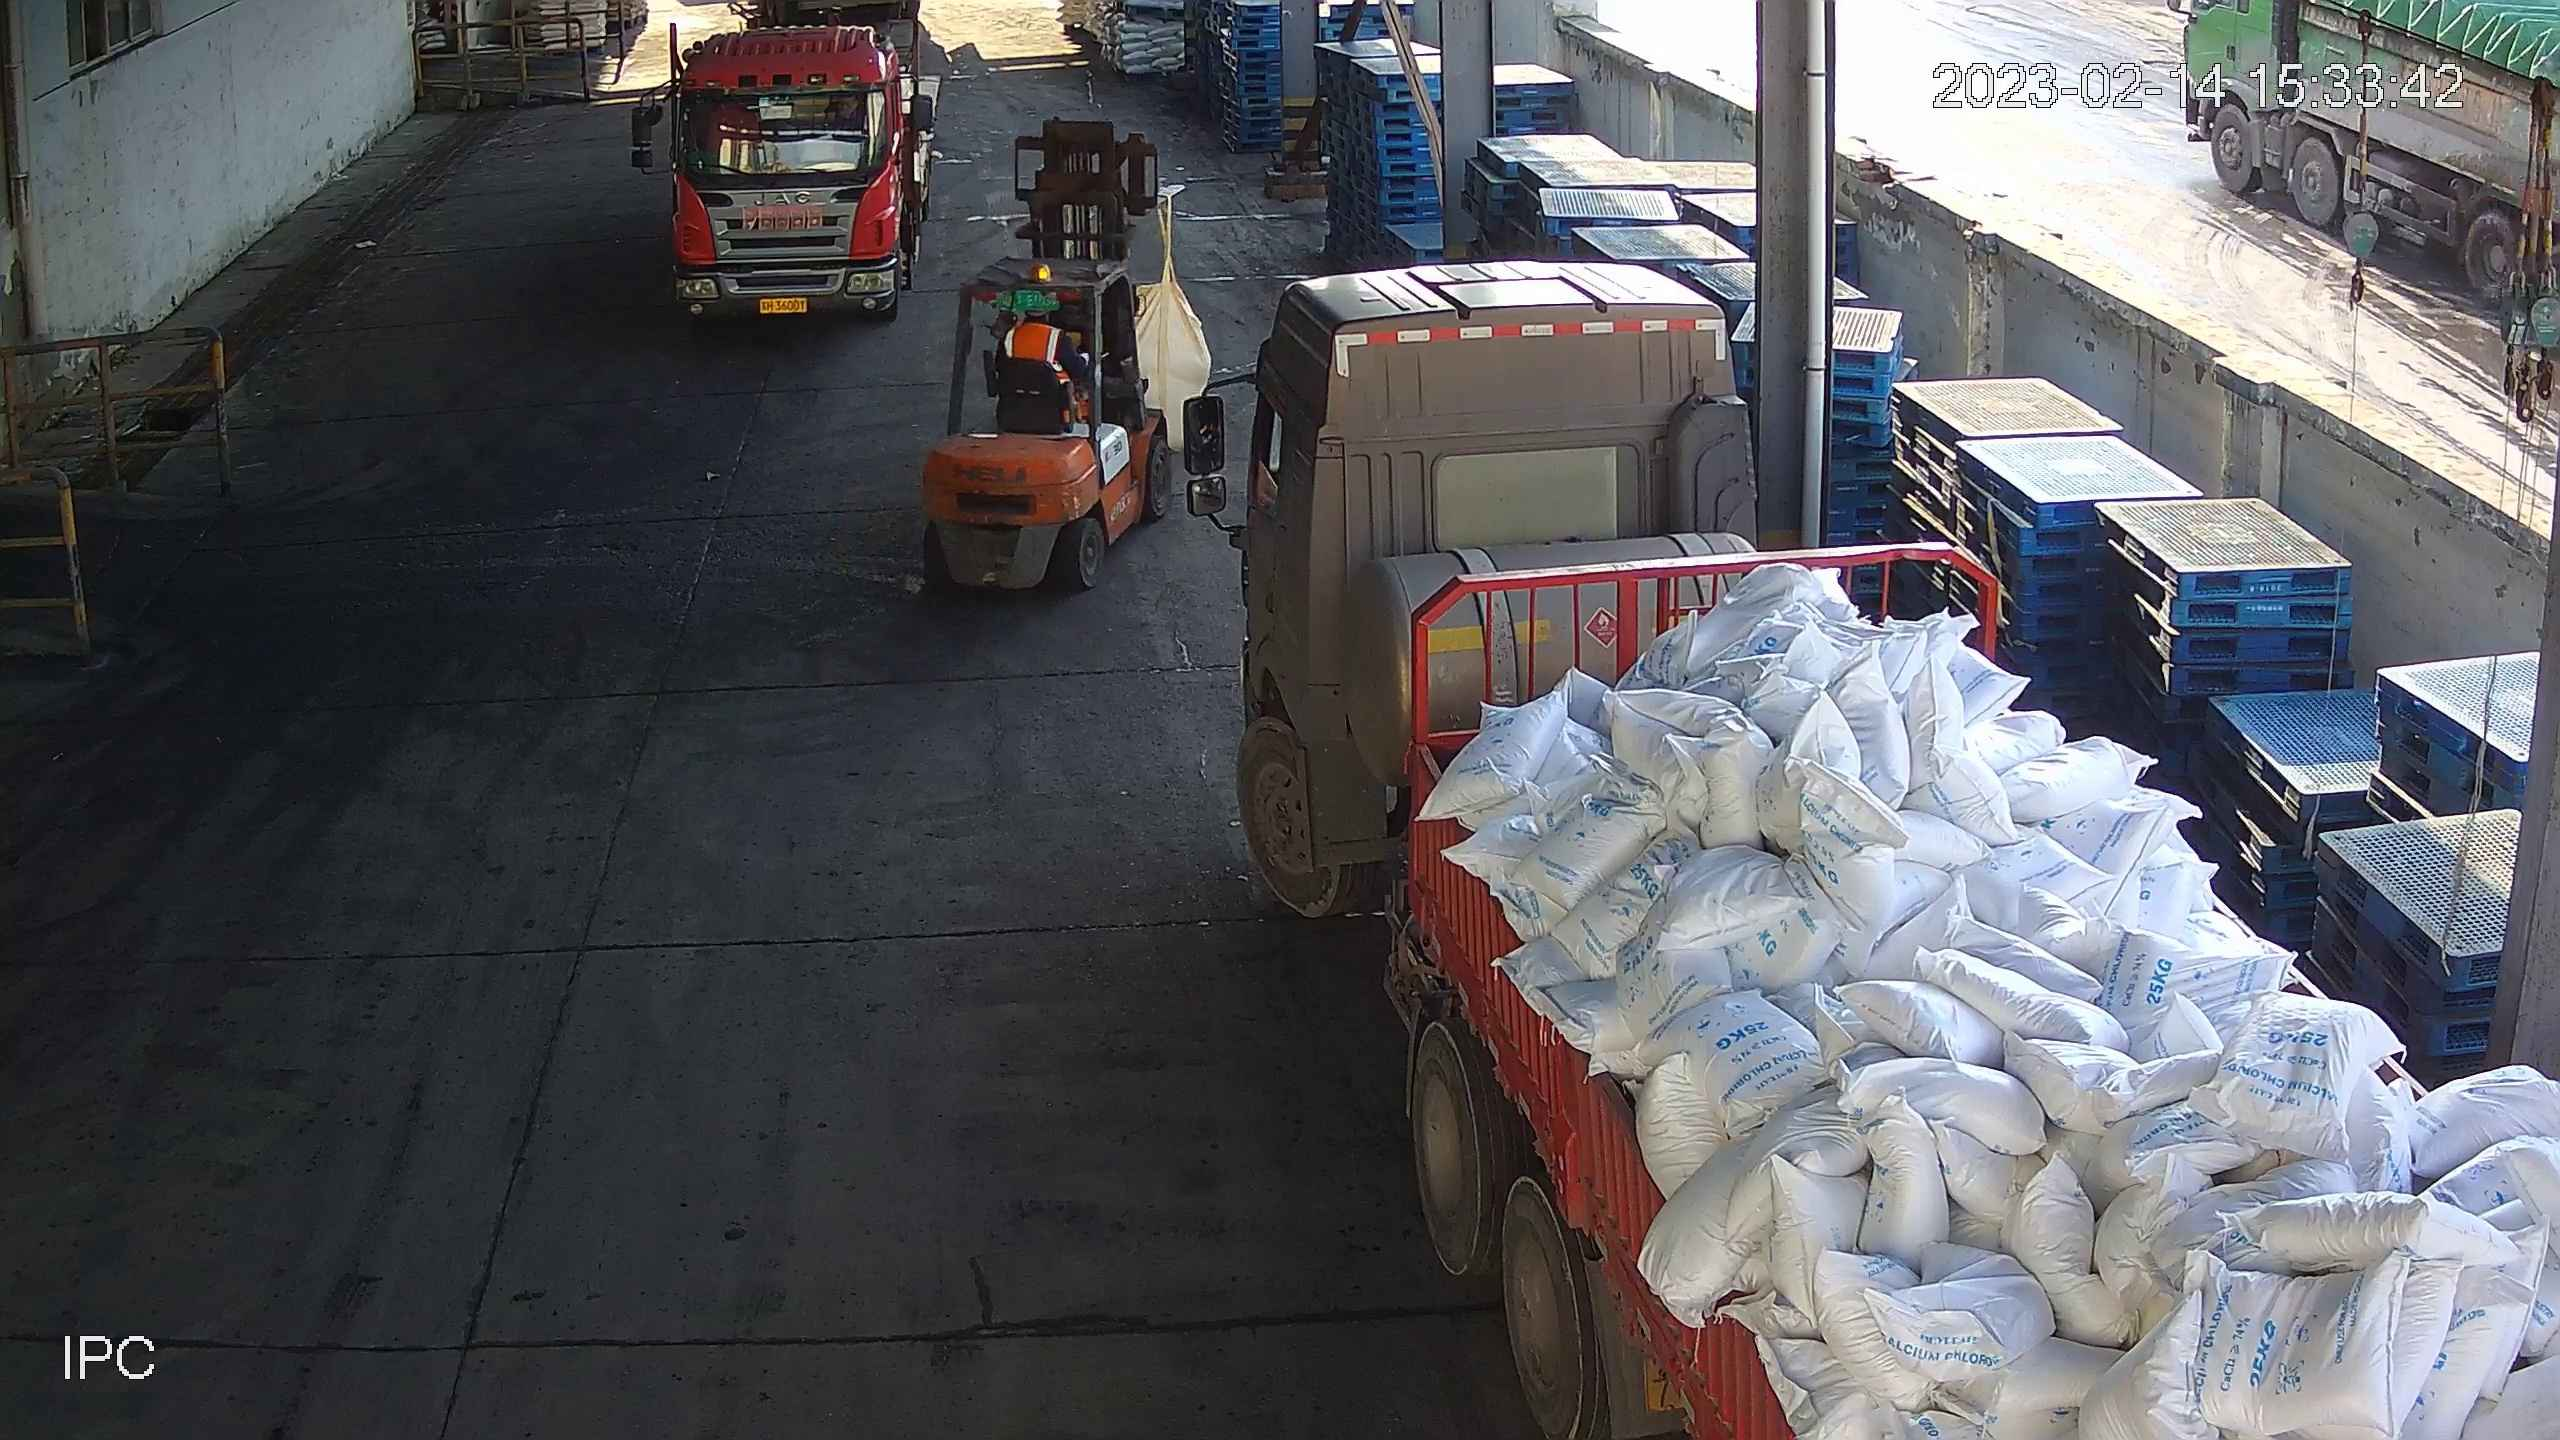head: (1003, 294, 1064, 364)
truck: (1190, 273, 2560, 1440), (623, 1, 933, 325)
